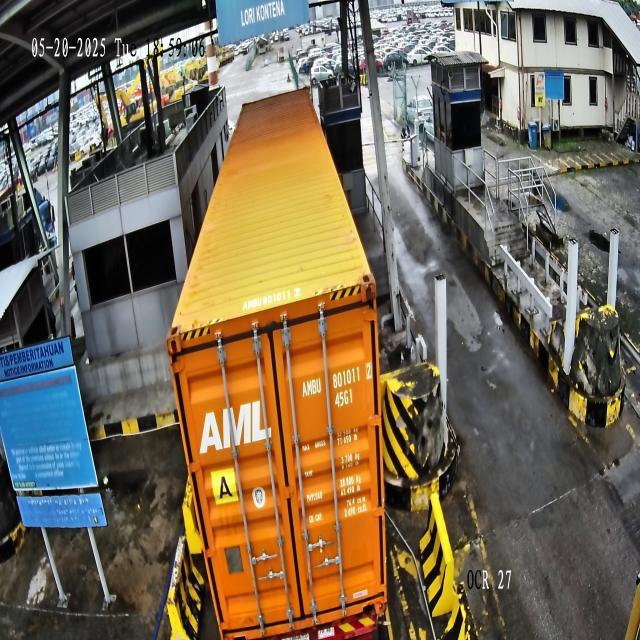ISO: (334, 389, 354, 412)
container_number: (304, 356, 374, 399)
